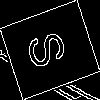S: (25, 24, 76, 72)
